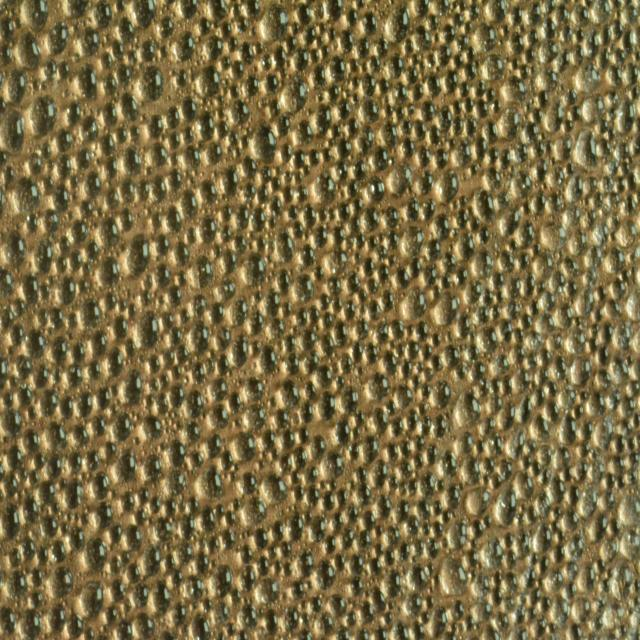dr: (125, 233, 152, 279), (29, 96, 58, 137), (454, 387, 482, 429), (0, 112, 27, 155), (260, 3, 289, 43), (78, 579, 105, 620), (440, 557, 468, 596), (573, 129, 598, 170), (431, 292, 460, 327), (137, 67, 165, 103), (385, 4, 410, 44), (14, 178, 41, 214), (252, 124, 276, 164), (197, 466, 226, 499), (435, 169, 460, 207), (16, 34, 42, 70), (574, 61, 602, 94), (496, 484, 518, 526), (611, 558, 632, 602), (136, 311, 160, 349), (282, 78, 307, 114), (240, 254, 267, 287), (262, 472, 288, 506), (48, 566, 74, 600), (112, 452, 139, 484), (84, 537, 108, 573), (388, 165, 414, 198), (402, 286, 427, 320), (540, 221, 568, 251), (46, 20, 69, 56), (313, 170, 337, 204), (190, 255, 213, 290), (473, 186, 494, 224), (24, 0, 48, 33), (121, 369, 143, 405), (3, 233, 26, 267), (498, 204, 521, 238), (502, 74, 528, 104), (466, 487, 492, 517), (544, 97, 565, 134), (7, 67, 27, 105), (481, 536, 504, 569), (619, 492, 640, 528), (365, 370, 390, 400), (321, 449, 346, 479), (274, 230, 296, 264), (189, 320, 211, 354), (1, 503, 21, 540), (233, 429, 256, 461), (151, 579, 172, 614), (132, 1, 158, 29), (242, 497, 268, 525), (43, 422, 69, 450), (211, 566, 233, 599), (570, 354, 592, 387), (616, 96, 635, 134), (78, 65, 98, 101), (401, 226, 425, 256), (582, 94, 606, 124), (448, 516, 469, 550), (499, 107, 520, 141), (593, 416, 614, 450), (121, 145, 143, 177), (80, 299, 102, 331), (550, 593, 570, 628), (33, 240, 54, 273), (142, 452, 163, 485), (24, 329, 47, 359), (314, 560, 337, 590), (474, 22, 497, 52), (98, 257, 120, 288), (472, 248, 494, 279), (312, 104, 332, 138), (533, 521, 553, 555), (578, 485, 598, 519), (118, 91, 139, 123), (587, 511, 608, 543), (482, 53, 505, 82), (176, 30, 196, 63), (228, 296, 250, 326), (294, 272, 314, 305), (279, 378, 301, 408), (316, 390, 338, 420), (20, 609, 42, 639), (619, 528, 640, 559), (230, 333, 248, 369), (180, 187, 199, 221), (325, 248, 348, 276), (575, 286, 595, 318), (78, 27, 100, 56), (199, 67, 221, 96), (364, 176, 386, 205), (506, 429, 525, 462), (256, 578, 280, 604), (110, 414, 133, 441), (408, 561, 428, 592), (295, 548, 315, 579), (496, 400, 516, 431), (244, 403, 266, 431), (7, 572, 29, 600), (190, 612, 212, 640), (476, 326, 498, 354), (452, 138, 473, 167), (602, 601, 623, 630), (184, 388, 203, 420), (380, 120, 400, 150), (220, 166, 240, 196), (100, 218, 120, 248), (105, 348, 125, 378), (610, 355, 630, 385), (243, 378, 266, 404), (565, 171, 583, 204), (533, 252, 555, 279), (614, 320, 632, 353), (432, 379, 451, 410), (462, 455, 481, 486), (293, 120, 314, 148), (41, 206, 62, 234), (134, 611, 155, 639), (512, 170, 533, 198), (47, 604, 67, 633), (430, 605, 447, 639), (22, 273, 40, 305), (22, 493, 40, 525), (560, 413, 578, 445), (0, 411, 23, 436), (536, 66, 558, 92), (197, 110, 216, 140), (40, 388, 59, 418), (439, 450, 458, 480), (143, 544, 162, 574), (142, 414, 163, 441), (530, 413, 551, 440), (599, 537, 620, 564), (208, 404, 228, 432), (618, 220, 638, 248), (605, 246, 625, 274), (515, 470, 534, 499), (153, 517, 174, 543), (514, 528, 531, 560), (93, 2, 113, 29), (356, 126, 374, 156), (56, 278, 76, 305), (384, 568, 402, 598), (168, 437, 186, 467), (65, 480, 83, 510), (124, 524, 144, 551), (457, 231, 475, 261), (566, 328, 586, 355), (587, 390, 607, 417), (572, 597, 592, 624), (149, 142, 168, 170), (339, 385, 358, 413), (198, 506, 217, 534), (554, 134, 573, 162), (566, 533, 585, 561), (549, 473, 566, 504), (578, 563, 595, 594), (510, 368, 531, 393), (50, 336, 68, 365), (90, 473, 110, 499), (185, 574, 205, 600), (484, 432, 504, 458), (472, 598, 492, 624), (544, 568, 564, 594), (626, 287, 640, 324), (118, 18, 137, 45), (432, 214, 451, 241), (258, 346, 277, 373), (314, 364, 333, 391), (94, 503, 113, 530), (569, 229, 588, 256), (517, 393, 533, 425), (583, 28, 600, 58), (486, 0, 508, 23), (395, 382, 413, 410), (334, 419, 352, 447), (362, 435, 380, 463), (370, 587, 388, 615), (310, 516, 328, 544), (238, 565, 256, 593), (517, 220, 535, 248), (555, 302, 573, 330), (271, 405, 291, 430), (539, 39, 559, 64), (454, 431, 474, 456), (265, 288, 281, 319), (282, 603, 298, 634), (413, 26, 432, 52), (199, 179, 218, 205), (415, 170, 434, 196), (153, 263, 172, 289), (89, 330, 108, 356), (6, 445, 24, 472), (65, 611, 83, 638), (164, 472, 186, 494), (360, 100, 380, 124), (372, 460, 388, 490), (203, 434, 223, 458), (591, 0, 611, 24), (81, 116, 98, 144), (372, 145, 389, 173), (165, 206, 182, 234), (593, 220, 610, 248), (230, 100, 249, 125), (71, 423, 90, 448), (484, 166, 503, 191), (464, 279, 483, 304), (146, 114, 164, 140), (328, 56, 346, 82), (240, 154, 258, 180), (199, 216, 217, 242), (208, 300, 226, 326), (76, 391, 94, 417), (472, 571, 490, 597), (375, 493, 391, 522), (0, 268, 14, 301), (281, 354, 302, 376), (237, 606, 258, 628), (337, 527, 357, 550), (65, 100, 82, 127), (84, 172, 101, 199), (191, 292, 208, 319), (303, 349, 320, 376), (423, 238, 442, 262), (246, 311, 265, 335), (571, 3, 590, 27), (172, 241, 190, 266), (392, 501, 410, 526), (604, 297, 622, 322), (562, 508, 580, 533), (53, 184, 69, 212), (222, 247, 238, 275), (431, 412, 447, 440), (310, 433, 326, 461), (288, 513, 304, 541), (95, 384, 111, 412), (59, 394, 75, 422), (181, 96, 198, 122), (208, 0, 228, 22), (328, 594, 348, 616), (584, 246, 604, 268), (490, 354, 510, 376), (213, 326, 232, 349), (175, 542, 194, 565), (114, 617, 133, 640), (0, 303, 15, 332), (455, 312, 470, 341), (242, 74, 260, 98), (383, 205, 401, 229), (445, 483, 461, 510), (210, 378, 228, 402), (23, 429, 41, 453), (38, 480, 56, 504), (132, 584, 150, 608), (170, 601, 188, 625), (317, 612, 335, 636), (562, 255, 580, 279), (558, 384, 576, 408), (553, 446, 571, 470), (534, 489, 550, 516), (588, 458, 606, 482), (66, 363, 83, 388), (372, 408, 389, 433), (15, 355, 32, 380), (389, 52, 404, 80), (182, 147, 202, 168), (420, 470, 435, 498), (536, 313, 556, 334), (56, 154, 72, 180), (361, 72, 377, 98), (120, 178, 136, 204), (71, 218, 87, 244), (0, 606, 16, 632), (621, 192, 637, 218), (552, 355, 568, 381), (608, 453, 626, 476), (116, 64, 133, 88), (206, 37, 223, 61), (205, 142, 222, 166), (421, 262, 438, 286), (33, 364, 50, 388), (355, 530, 372, 554), (90, 414, 107, 438), (41, 515, 58, 539), (606, 64, 623, 88), (522, 120, 539, 144), (504, 276, 521, 300), (152, 175, 167, 202), (320, 332, 335, 359), (102, 103, 118, 128), (404, 197, 420, 222), (112, 315, 128, 340), (382, 350, 398, 375), (444, 344, 460, 369), (531, 189, 547, 214), (178, 0, 199, 19), (66, 0, 88, 18), (55, 129, 73, 151), (390, 83, 408, 105), (218, 279, 236, 301), (299, 329, 317, 351), (239, 472, 257, 494), (205, 534, 223, 556), (522, 271, 536, 299), (393, 267, 410, 290), (415, 498, 432, 521), (109, 578, 126, 601), (212, 602, 229, 625), (548, 166, 565, 189), (415, 318, 430, 344), (47, 454, 62, 480), (522, 564, 537, 590), (158, 15, 174, 39), (362, 12, 378, 36), (355, 484, 371, 508), (180, 516, 196, 540), (194, 552, 210, 576), (50, 539, 66, 563), (20, 537, 36, 561), (264, 610, 280, 634), (405, 593, 421, 617), (508, 32, 524, 56), (547, 192, 563, 216), (499, 249, 515, 273), (498, 458, 514, 482), (600, 488, 616, 512), (268, 318, 286, 339), (375, 319, 389, 346), (474, 134, 488, 161), (564, 205, 582, 226), (438, 106, 453, 131), (155, 233, 170, 258), (526, 2, 541, 27), (533, 158, 548, 183), (620, 393, 635, 418), (275, 114, 292, 136), (362, 208, 379, 230), (302, 463, 319, 485), (183, 422, 200, 444), (140, 40, 156, 63), (173, 67, 189, 90), (336, 99, 352, 122), (118, 209, 134, 232), (385, 524, 401, 547), (69, 529, 85, 552), (541, 17, 557, 40), (550, 270, 566, 293), (235, 204, 249, 230), (252, 206, 266, 232), (277, 268, 291, 294), (334, 321, 347, 349), (622, 28, 635, 56), (325, 0, 343, 20), (312, 65, 327, 89), (339, 30, 354, 54), (352, 158, 367, 182), (417, 144, 432, 168), (49, 306, 64, 330), (167, 284, 182, 308), (611, 277, 626, 301), (607, 388, 622, 412), (280, 430, 297, 451), (100, 134, 116, 156), (296, 3, 312, 25), (400, 137, 416, 159), (432, 147, 448, 169), (167, 169, 183, 191), (104, 188, 120, 210), (169, 385, 185, 407), (390, 318, 406, 340), (302, 379, 318, 401), (253, 528, 269, 550), (510, 343, 526, 365), (470, 360, 486, 382), (596, 369, 612, 391), (494, 610, 510, 632), (1, 17, 14, 44), (264, 71, 278, 96), (294, 47, 308, 72), (356, 316, 370, 341), (566, 482, 580, 507), (76, 147, 91, 170), (302, 206, 317, 229), (331, 224, 346, 247), (346, 271, 361, 294), (10, 324, 25, 347), (555, 3, 570, 26), (556, 49, 571, 72), (513, 140, 528, 163), (545, 400, 560, 423), (574, 459, 589, 482), (412, 0, 431, 18), (326, 276, 343, 296), (526, 330, 543, 350), (487, 394, 504, 414), (239, 44, 255, 65), (78, 199, 94, 220), (68, 249, 82, 273), (84, 240, 100, 261), (381, 288, 395, 312), (86, 359, 102, 380), (222, 528, 236, 552), (84, 451, 100, 472), (505, 299, 521, 320), (540, 291, 556, 312), (625, 62, 639, 86), (580, 418, 594, 442), (533, 614, 547, 638), (28, 153, 43, 175), (427, 74, 442, 96), (420, 100, 435, 122), (278, 142, 293, 164), (313, 226, 328, 248), (293, 446, 308, 468), (425, 444, 440, 466), (393, 621, 410, 640), (103, 74, 117, 97), (270, 519, 284, 542), (484, 120, 498, 143), (336, 139, 352, 159), (344, 503, 360, 523), (188, 449, 204, 469), (596, 138, 612, 158), (582, 268, 598, 288), (536, 347, 552, 367), (482, 624, 502, 640), (104, 158, 119, 179), (399, 439, 414, 460), (261, 429, 276, 450), (450, 598, 465, 619), (538, 445, 553, 466), (368, 299, 381, 323), (500, 318, 512, 344), (166, 106, 180, 128), (356, 36, 370, 58), (437, 44, 451, 66), (444, 70, 458, 92), (136, 179, 150, 201), (124, 337, 138, 359), (426, 537, 440, 559), (228, 391, 242, 413), (18, 385, 32, 407), (68, 452, 82, 474), (600, 322, 614, 344), (551, 542, 565, 564), (432, 0, 450, 17), (348, 578, 364, 597), (547, 331, 563, 350), (522, 351, 538, 370), (43, 60, 58, 80), (441, 252, 456, 272), (290, 580, 305, 600), (583, 176, 598, 196), (475, 304, 490, 324), (534, 366, 549, 386), (508, 625, 528, 640), (274, 46, 287, 69), (365, 342, 378, 365), (407, 516, 420, 539), (361, 602, 374, 625), (465, 114, 478, 137), (611, 18, 624, 41), (111, 41, 125, 62), (338, 136, 352, 157), (268, 195, 282, 216), (334, 160, 348, 181), (385, 230, 399, 251), (25, 213, 39, 234), (147, 354, 161, 375), (400, 359, 414, 380), (300, 402, 314, 423), (390, 417, 404, 438), (350, 554, 364, 575), (164, 497, 178, 518), (108, 523, 122, 544), (624, 4, 638, 25), (532, 386, 546, 407), (504, 572, 518, 593), (98, 52, 114, 70), (217, 353, 230, 375), (398, 541, 411, 563), (599, 24, 612, 46), (498, 148, 511, 170), (597, 344, 610, 366), (412, 121, 427, 140), (582, 209, 597, 228), (428, 125, 442, 145), (422, 200, 436, 220), (347, 214, 361, 234), (408, 258, 422, 278), (168, 326, 182, 346), (71, 343, 85, 363), (406, 340, 420, 360), (339, 354, 353, 374), (386, 443, 400, 463), (362, 512, 376, 532), (278, 454, 292, 474), (4, 476, 18, 496), (310, 594, 324, 614), (474, 98, 488, 118), (492, 270, 506, 290), (464, 548, 478, 568), (564, 559, 578, 579), (302, 244, 314, 267), (157, 392, 169, 415), (598, 47, 610, 70), (303, 24, 316, 45), (347, 179, 360, 200), (192, 363, 205, 384), (477, 376, 490, 397), (567, 623, 583, 640), (563, 88, 578, 106), (312, 2, 326, 21), (322, 492, 336, 511), (466, 343, 480, 362), (482, 456, 496, 475), (618, 418, 632, 437), (0, 45, 12, 67), (338, 201, 350, 223), (296, 306, 308, 328), (318, 290, 330, 312), (388, 473, 400, 495), (352, 342, 364, 364), (406, 408, 418, 430), (110, 555, 122, 577), (456, 208, 468, 230), (525, 504, 537, 526), (377, 264, 390, 284), (411, 620, 424, 640), (331, 511, 344, 531), (221, 451, 234, 471), (104, 605, 117, 625), (526, 28, 539, 48), (601, 174, 614, 194), (513, 604, 526, 624), (608, 518, 621, 538), (198, 18, 212, 36), (230, 61, 244, 79), (452, 115, 464, 136), (326, 84, 340, 102), (211, 240, 223, 261), (105, 292, 117, 313), (306, 489, 320, 507), (8, 548, 22, 566), (29, 591, 43, 609), (511, 5, 523, 26), (612, 48, 626, 66), (606, 90, 620, 108), (616, 142, 630, 160), (564, 280, 578, 298), (530, 586, 542, 607), (594, 593, 606, 614), (406, 65, 419, 84), (378, 77, 391, 96), (182, 125, 195, 144), (259, 166, 272, 185), (244, 183, 257, 202), (235, 235, 248, 254), (103, 439, 116, 458), (36, 546, 49, 565), (468, 3, 481, 22), (532, 139, 545, 158), (497, 191, 510, 210), (471, 518, 484, 537), (0, 356, 7, 391), (573, 44, 584, 66), (346, 7, 358, 27), (369, 56, 381, 76), (346, 118, 358, 138), (363, 257, 375, 277), (220, 203, 232, 223), (132, 508, 147, 524), (149, 496, 161, 516), (128, 564, 140, 584), (335, 625, 351, 640), (560, 24, 572, 44), (491, 586, 503, 606), (286, 204, 300, 221), (121, 494, 135, 511), (247, 0, 260, 18), (162, 348, 175, 366), (400, 461, 413, 479), (385, 398, 398, 416), (137, 488, 150, 506), (31, 569, 44, 587), (473, 80, 486, 98), (487, 146, 500, 164), (605, 157, 618, 175), (607, 191, 620, 209), (478, 226, 491, 244), (481, 288, 494, 306), (503, 596, 516, 614), (590, 614, 603, 632), (370, 556, 381, 577), (501, 374, 512, 395), (506, 549, 517, 570), (377, 38, 389, 57), (269, 99, 281, 118), (292, 150, 304, 169), (296, 184, 308, 203), (168, 131, 180, 150), (162, 310, 174, 329), (413, 452, 425, 471), (419, 417, 431, 436), (164, 553, 176, 572), (258, 556, 270, 575), (538, 89, 550, 108), (354, 626, 370, 640), (400, 118, 413, 135), (375, 245, 388, 262), (150, 212, 163, 229), (178, 308, 191, 325), (414, 436, 427, 453), (431, 354, 444, 371), (524, 438, 537, 455), (221, 20, 232, 40), (257, 184, 268, 204), (14, 297, 25, 317), (337, 487, 348, 507), (626, 171, 637, 191), (614, 434, 625, 454), (42, 174, 54, 192), (236, 16, 248, 34), (228, 129, 240, 147), (366, 235, 378, 253), (58, 237, 70, 255), (140, 289, 152, 307), (176, 346, 188, 364), (407, 477, 419, 495), (240, 545, 252, 563), (172, 570, 184, 588), (464, 60, 476, 78), (614, 176, 626, 194), (518, 252, 530, 270), (456, 266, 468, 284), (539, 595, 551, 613), (564, 581, 576, 599), (33, 454, 47, 469), (4, 167, 15, 186), (344, 301, 355, 320), (188, 495, 199, 514), (281, 186, 294, 202), (185, 228, 198, 244), (127, 50, 139, 67), (427, 14, 439, 31), (270, 175, 282, 192), (352, 197, 364, 214), (55, 255, 67, 272), (308, 306, 320, 323), (322, 313, 334, 330), (432, 520, 444, 537), (214, 502, 226, 519), (524, 47, 536, 64), (455, 363, 467, 380), (420, 382, 430, 402), (465, 614, 475, 634), (40, 143, 51, 161), (228, 36, 239, 54), (261, 54, 272, 72), (354, 232, 365, 250), (285, 334, 296, 352), (354, 410, 365, 428), (3, 390, 14, 408), (325, 536, 336, 554), (334, 554, 345, 572), (593, 192, 604, 210), (469, 214, 480, 232), (562, 466, 573, 484), (143, 392, 156, 407), (58, 62, 70, 78), (456, 35, 468, 51), (451, 100, 463, 116), (367, 279, 379, 295), (421, 344, 433, 360), (28, 471, 40, 487), (520, 313, 532, 329), (569, 105, 581, 121), (608, 212, 620, 228), (546, 381, 558, 397), (350, 442, 360, 461), (356, 463, 366, 482), (217, 121, 228, 138), (412, 84, 423, 101), (256, 235, 267, 252), (308, 149, 319, 166), (67, 312, 78, 329), (529, 300, 540, 317), (490, 377, 501, 394), (578, 440, 589, 457), (539, 468, 550, 485), (331, 298, 344, 312), (117, 126, 127, 144), (444, 24, 454, 42), (38, 309, 48, 327), (282, 299, 292, 317), (347, 609, 357, 627), (460, 80, 470, 98), (464, 96, 474, 114), (543, 0, 555, 15), (513, 328, 525, 343), (504, 530, 514, 548), (598, 578, 610, 593), (614, 475, 626, 490), (626, 470, 638, 485), (229, 83, 240, 99), (330, 124, 341, 140), (314, 265, 325, 281), (221, 226, 232, 242), (204, 358, 215, 374), (383, 548, 394, 564), (532, 108, 543, 124), (519, 64, 530, 80), (597, 118, 608, 134), (507, 238, 518, 254), (521, 453, 532, 469), (1, 3, 10, 22), (178, 270, 188, 287), (433, 499, 443, 516), (596, 284, 606, 301), (439, 274, 451, 288), (334, 376, 346, 390), (372, 543, 384, 557), (376, 626, 388, 640), (602, 474, 614, 488), (413, 541, 424, 556), (491, 98, 502, 113), (588, 337, 599, 352), (130, 126, 140, 142), (320, 44, 330, 60), (453, 52, 463, 68), (240, 134, 250, 150), (322, 147, 332, 163), (170, 152, 180, 168), (78, 278, 88, 294), (171, 365, 181, 381), (52, 368, 62, 384), (251, 339, 261, 355), (294, 485, 304, 501), (491, 304, 501, 320), (563, 118, 573, 134), (620, 160, 630, 176), (594, 306, 604, 322), (627, 250, 637, 266), (626, 436, 636, 452), (220, 56, 232, 69), (382, 611, 394, 624), (115, 0, 126, 14), (215, 94, 226, 108), (253, 290, 264, 304), (298, 428, 309, 442), (281, 542, 292, 556), (318, 205, 327, 222), (412, 374, 421, 391), (28, 405, 37, 422), (310, 48, 320, 63), (404, 39, 414, 54), (453, 13, 463, 28), (40, 284, 50, 299), (143, 274, 153, 289), (418, 401, 428, 416), (110, 382, 120, 397), (79, 511, 89, 526), (120, 550, 130, 565), (298, 630, 313, 640), (552, 507, 562, 522), (526, 606, 536, 621), (596, 557, 606, 572), (0, 96, 7, 117), (287, 36, 296, 52), (430, 284, 442, 296), (60, 520, 69, 536), (522, 200, 531, 216), (476, 439, 485, 455), (493, 570, 502, 586), (0, 188, 5, 216), (81, 262, 91, 276), (396, 344, 406, 358), (330, 360, 340, 374), (268, 395, 278, 409), (436, 478, 446, 492), (225, 510, 235, 524), (232, 588, 242, 602), (226, 622, 236, 636), (301, 613, 311, 627), (84, 626, 94, 640), (462, 20, 472, 34), (574, 28, 584, 42), (532, 459, 540, 476), (351, 75, 360, 90), (349, 58, 358, 73), (327, 207, 336, 222), (18, 468, 27, 483), (443, 631, 458, 640), (608, 107, 617, 122), (483, 514, 492, 529), (232, 4, 242, 17), (148, 379, 158, 392), (10, 377, 20, 390), (550, 519, 560, 532), (428, 52, 436, 68), (346, 234, 354, 250), (245, 125, 254, 139), (353, 251, 362, 265), (388, 254, 397, 268), (399, 482, 408, 496), (432, 333, 441, 347), (421, 522, 430, 536), (421, 611, 430, 625), (203, 598, 212, 612), (607, 126, 616, 140), (294, 172, 304, 184), (294, 223, 302, 238), (50, 502, 60, 514), (267, 546, 277, 558), (556, 530, 566, 542), (358, 290, 367, 303), (426, 595, 435, 608), (177, 499, 186, 512), (469, 163, 478, 176), (532, 243, 541, 256), (537, 280, 546, 293), (1, 152, 8, 168), (255, 42, 263, 56), (292, 21, 300, 35), (128, 304, 136, 318), (284, 562, 292, 576), (591, 323, 599, 337), (406, 104, 416, 115), (395, 108, 406, 118), (258, 98, 267, 110), (70, 176, 79, 188), (415, 361, 424, 373), (352, 428, 361, 440), (291, 471, 300, 483), (0, 463, 5, 484), (411, 52, 419, 65), (425, 368, 433, 381), (272, 448, 280, 461), (426, 563, 434, 576), (234, 498, 242, 511), (502, 23, 510, 36), (544, 140, 552, 153), (384, 105, 393, 116), (237, 631, 248, 640), (275, 560, 282, 574), (15, 18, 23, 30), (284, 171, 292, 183), (444, 331, 452, 343), (160, 374, 168, 386), (124, 600, 132, 612), (459, 195, 467, 207), (496, 291, 504, 303), (519, 592, 527, 604), (161, 45, 168, 58), (210, 346, 217, 359), (359, 303, 366, 316), (248, 26, 257, 36), (215, 630, 224, 640), (448, 620, 457, 630), (72, 53, 80, 64), (32, 80, 40, 91), (145, 165, 153, 176), (265, 254, 273, 265), (217, 107, 224, 119), (319, 22, 326, 34), (361, 61, 368, 73), (419, 60, 426, 72), (97, 207, 104, 219), (378, 230, 384, 244), (158, 294, 165, 306), (444, 510, 451, 522), (512, 58, 519, 70), (62, 88, 70, 98), (303, 166, 311, 176), (329, 481, 337, 491), (134, 412, 142, 422), (229, 472, 237, 482), (133, 436, 141, 446), (59, 478, 67, 488), (387, 600, 395, 610), (306, 510, 312, 523), (316, 36, 323, 47), (329, 29, 336, 40), (119, 301, 126, 312), (390, 339, 397, 350), (159, 441, 166, 452), (459, 1, 466, 12), (0, 72, 4, 90), (48, 160, 54, 172), (356, 0, 365, 8), (317, 92, 325, 101), (227, 144, 233, 156), (408, 324, 414, 336), (434, 575, 442, 584), (110, 404, 116, 416), (196, 34, 203, 44), (433, 33, 440, 43), (280, 69, 287, 79), (328, 138, 335, 148), (270, 217, 277, 227), (275, 166, 282, 176), (388, 156, 395, 166), (319, 480, 326, 490), (240, 531, 247, 541), (49, 275, 55, 286), (8, 344, 14, 355), (67, 512, 73, 523), (235, 148, 242, 157), (339, 190, 346, 199), (259, 461, 266, 470), (105, 33, 111, 43), (450, 138, 456, 148), (120, 243, 126, 253), (176, 420, 182, 430), (2, 434, 8, 444), (74, 512, 80, 522), (307, 580, 313, 590), (138, 63, 145, 71), (41, 82, 47, 91), (346, 89, 352, 98), (307, 108, 313, 117), (68, 211, 74, 220), (198, 140, 204, 149), (189, 177, 195, 186), (68, 332, 74, 341), (129, 410, 135, 419), (174, 533, 180, 542), (353, 94, 358, 104), (377, 527, 382, 537), (25, 566, 30, 576), (111, 489, 118, 496), (96, 157, 102, 165), (350, 481, 356, 489), (211, 560, 217, 568), (183, 626, 189, 634), (101, 40, 106, 49), (72, 192, 77, 201), (184, 377, 190, 384), (286, 507, 292, 514), (292, 504, 298, 511), (164, 427, 170, 434), (11, 8, 16, 16), (191, 74, 196, 82), (272, 270, 277, 278), (256, 488, 261, 496), (305, 231, 309, 240), (140, 354, 144, 363), (166, 411, 172, 417), (0, 490, 3, 502), (214, 22, 219, 29), (339, 85, 344, 92), (267, 276, 272, 283), (451, 510, 456, 517), (280, 510, 285, 517), (173, 411, 178, 418), (436, 65, 440, 73), (281, 79, 285, 87), (214, 170, 218, 178), (262, 451, 267, 457), (32, 391, 38, 396), (258, 609, 263, 615), (326, 222, 330, 229), (416, 471, 420, 478), (247, 531, 251, 538), (189, 360, 194, 365), (443, 136, 447, 142), (149, 518, 153, 524), (184, 367, 188, 372), (164, 418, 168, 423), (235, 465, 239, 470), (2, 450, 6, 455), (172, 430, 176, 434)
